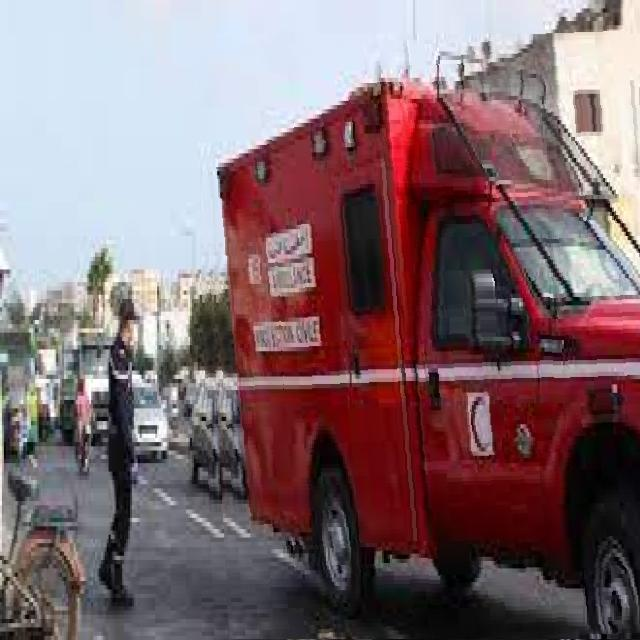ambulance: (198, 34, 640, 639)
